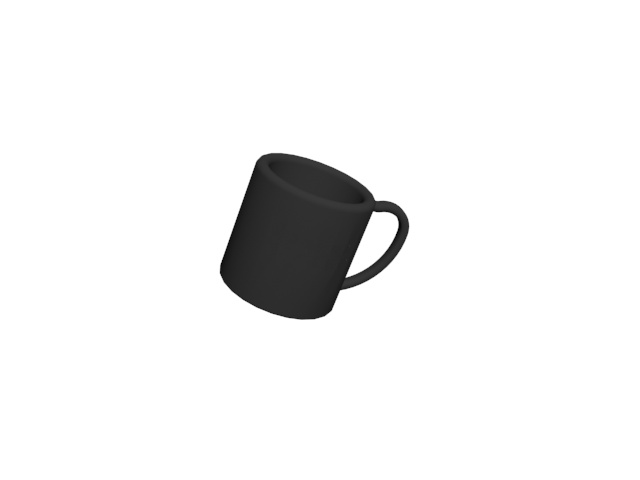mug: (217, 153, 416, 320)
